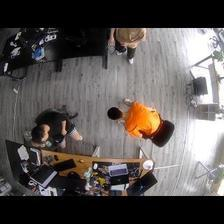normal: (107, 95, 167, 145), (29, 106, 82, 153)
